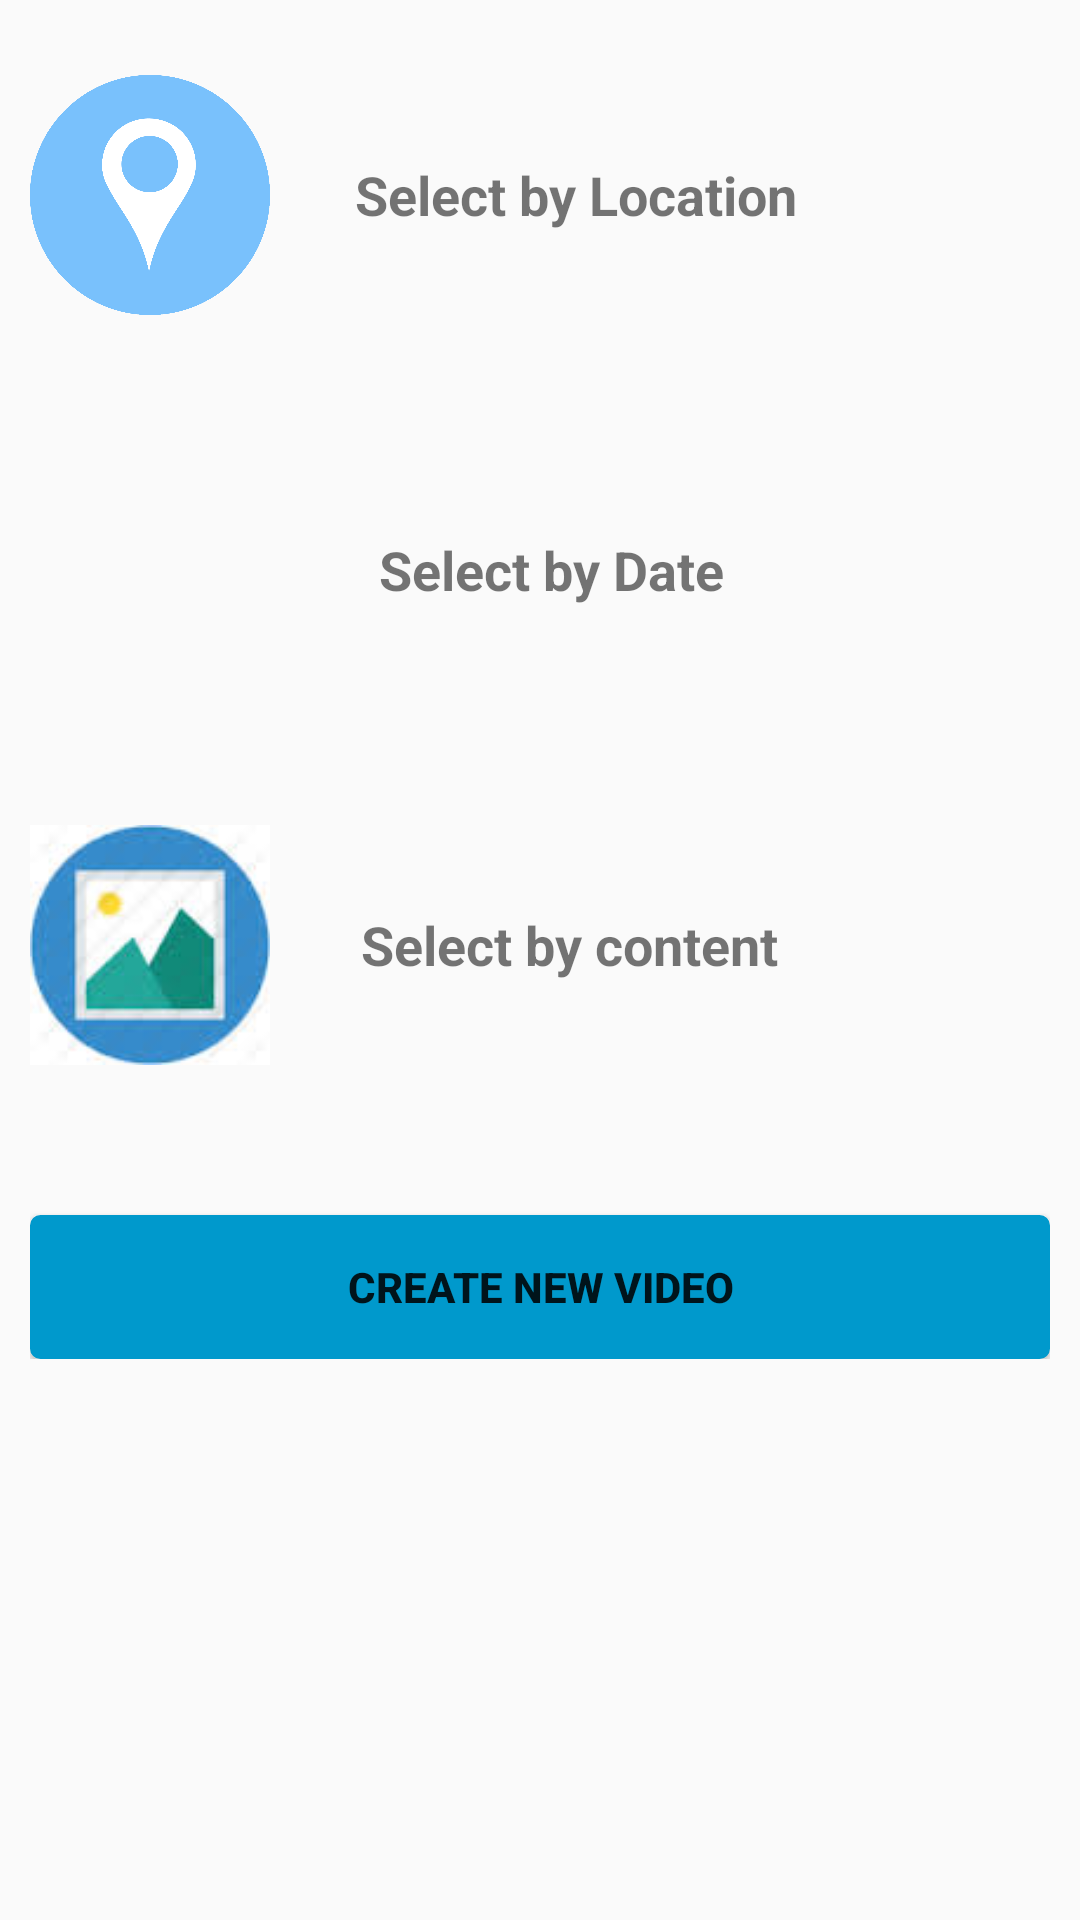

Screen size 1080 x 1920. Icon name, then its center in pixels as [x,y]:
map: [150,195]
